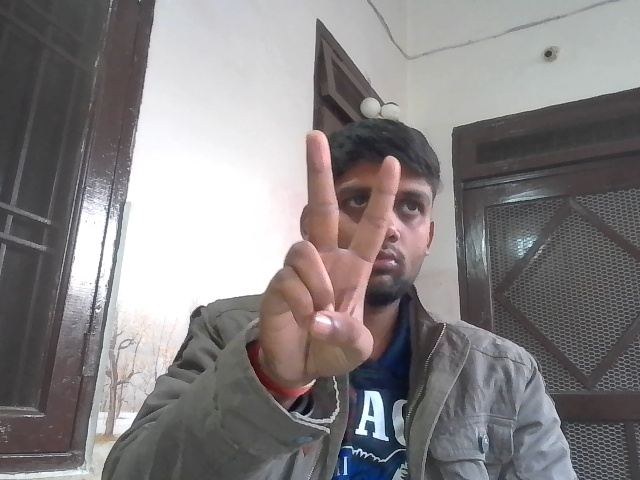Enjoy: (251, 122, 400, 371)
